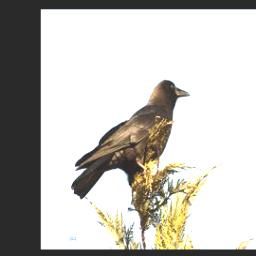Crow: (70, 75, 192, 204)
